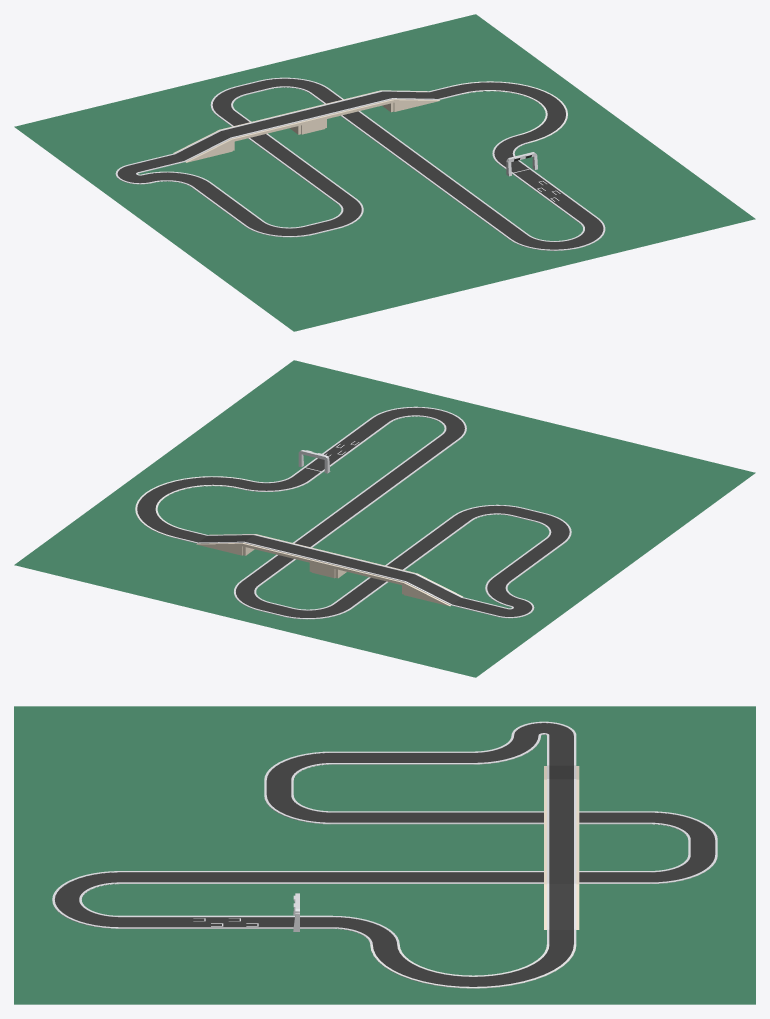
The model's file is racetrack.obj.
3 views of the same model, one above another, from view 1: azimuth 30°, elevation 25°; view 2: azimuth 150°, elevation 25°; view 3: azimuth 270°, elevation 25° (orthographic). The views are drawn at different scales.
Visible parts, largest first — view 1: grass; view 2: grass; view 3: grass.
Boxes of the visible parts, <box> form: grass: <box>14,14,755,331</box>; grass: <box>14,360,755,677</box>; grass: <box>14,706,755,1004</box>.
Bounding box in the file's own units: 20 × 0.6682 × 21.
